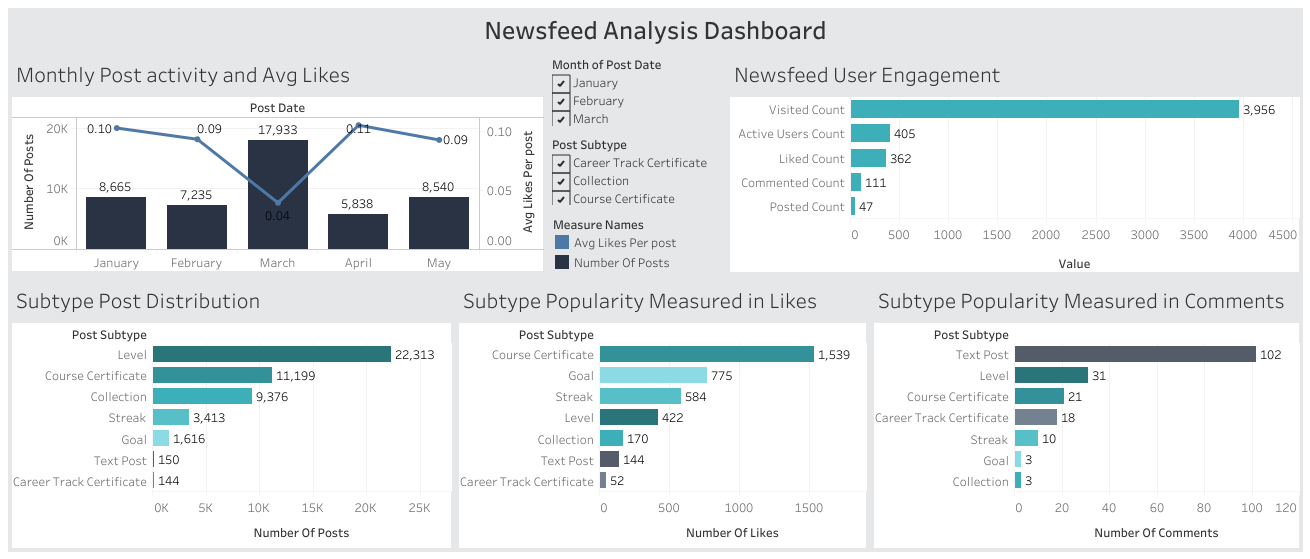

The page's visual inventory and layout, read from the dashboard file:
{"tool":"tableau","page":{"name":"Dashboard 3","canvas":[1000,1000],"units":"permille","ordinal":0},"visuals":[{"type":"title","box":[4.2,7.4,991.7,38]},{"type":"worksheet","title":"Sheet 2","mark":"Bar","rows":["number_of_posts","Calculation_538180187270717440"],"cols":["post_date"],"box":[4.2,45.4,361.3,517.2]},{"type":"filter","title":"Sheet 2","param":"[federated.1u2n35i1xwz2qw16idjyf1kn14rl].[mn:post_date:ok]","box":[365.4,45.4,134.6,135.2]},{"type":"worksheet","title":"Sheet 6","mark":"Automatic","box":[500,45.4,495.8,517.2]},{"type":"filter","title":"Sheet 2","param":"[federated.1u2n35i1xwz2qw16idjyf1kn14rl].[none:post_subtype:nk]","box":[365.4,180.6,134.6,170.4]},{"type":"legend","title":"Sheet 2","param":"[federated.1u2n35i1xwz2qw16idjyf1kn14rl].[:Measure Names]","box":[365.4,350.9,134.6,61.1]},{"type":"worksheet","title":"Sheet 3","mark":"Automatic","rows":["post_subtype"],"cols":["number_of_posts"],"box":[4.2,562.5,361.3,430.1]},{"type":"worksheet","title":"Sheet 4","mark":"Automatic","rows":["post_subtype"],"cols":["number_of_likes"],"box":[365.4,562.5,308.2,430.1]},{"type":"worksheet","title":"Sheet 5","mark":"Automatic","rows":["post_subtype"],"cols":["number_of_comments"],"box":[673.6,562.5,322.2,430.1]}]}

Visuals, with their boxes on the dashboard's canvas, which has no fixed pixel size, in thousandths of its width and height (x1, y1, x2, y2). These are canvas units, not pixel positions in the 1310x559 screenshot, which may show the page scaled, cropped or inside an application window:
title: (x1=4, y1=7, x2=996, y2=45)
"Sheet 2" worksheet (Bar marks): (x1=4, y1=45, x2=366, y2=563)
"Sheet 2" filter: (x1=365, y1=45, x2=500, y2=181)
"Sheet 6" worksheet: (x1=500, y1=45, x2=996, y2=563)
"Sheet 2" filter: (x1=365, y1=181, x2=500, y2=351)
"Sheet 2" legend: (x1=365, y1=351, x2=500, y2=412)
"Sheet 3" worksheet: (x1=4, y1=562, x2=366, y2=993)
"Sheet 4" worksheet: (x1=365, y1=562, x2=674, y2=993)
"Sheet 5" worksheet: (x1=674, y1=562, x2=996, y2=993)
